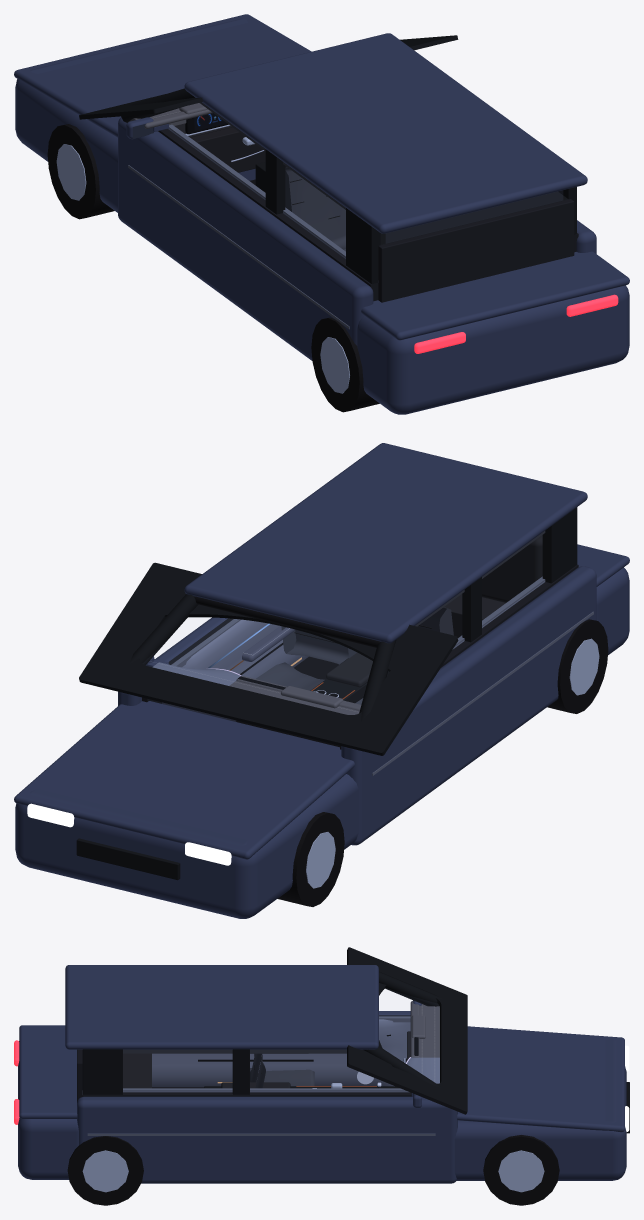
Rendered from car-1.glb.
3 renders of one model, top to bottom at view 1: azimuth 30°, elevation 25°; view 2: azimuth 150°, elevation 25°; view 3: azimuth 270°, elevation 25°, orthographic. The views are drawn at different scales.
Bounding box in the file's own units: 2.4 × 1.47 × 5.34.
Materials: 98 (7 with a texture image).
